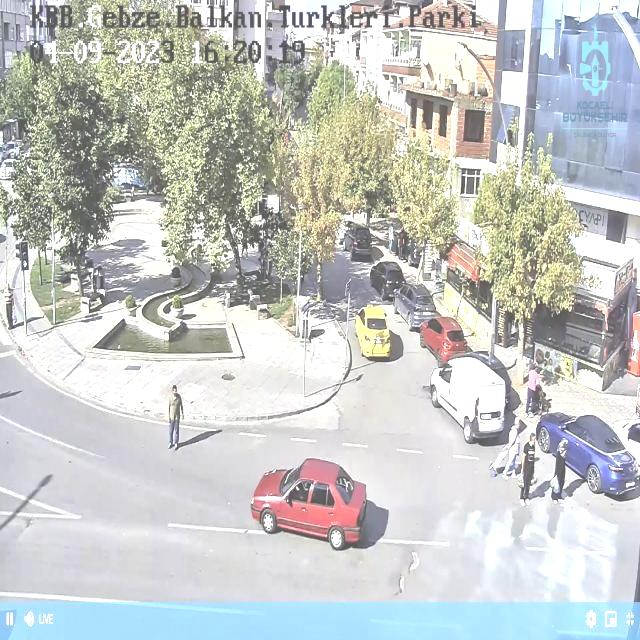Car: (250, 457, 368, 551), (534, 410, 640, 497), (419, 315, 468, 365), (393, 283, 438, 330), (354, 304, 391, 359), (370, 261, 407, 301), (342, 223, 373, 259)
Van: (430, 355, 507, 445)
